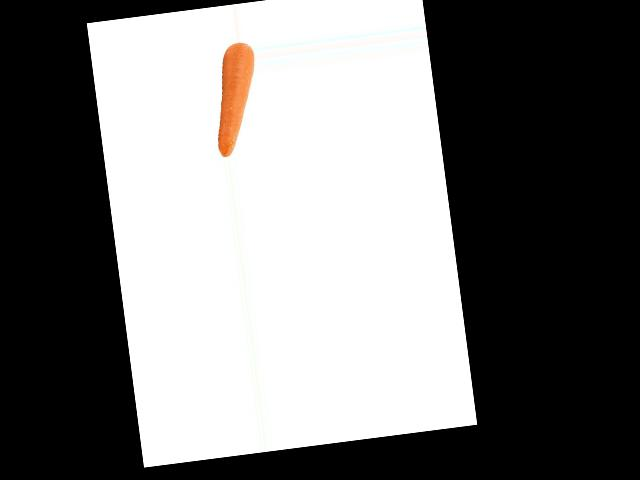carrot: (203, 59, 266, 160)
